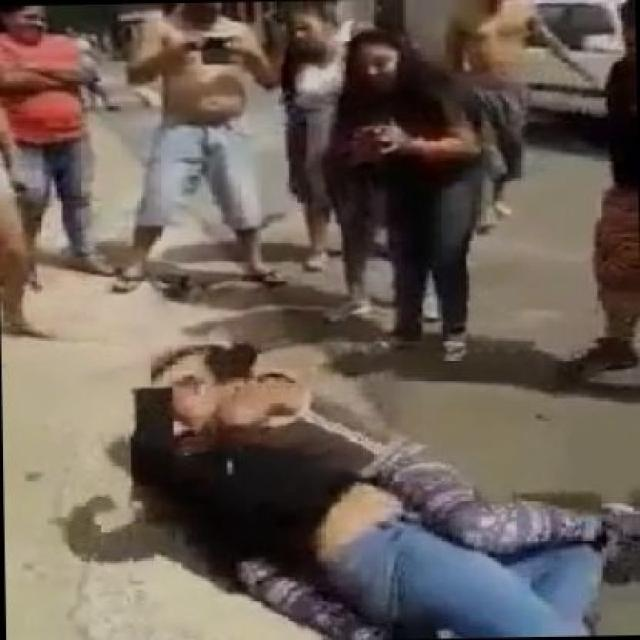fight: (101, 330, 634, 638)
non-fight: (312, 32, 510, 376), (112, 5, 287, 301)
